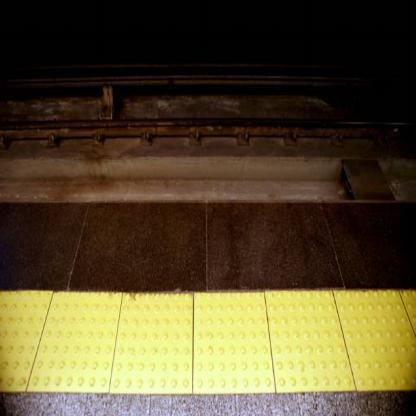podotacti: (0, 245, 416, 416)
